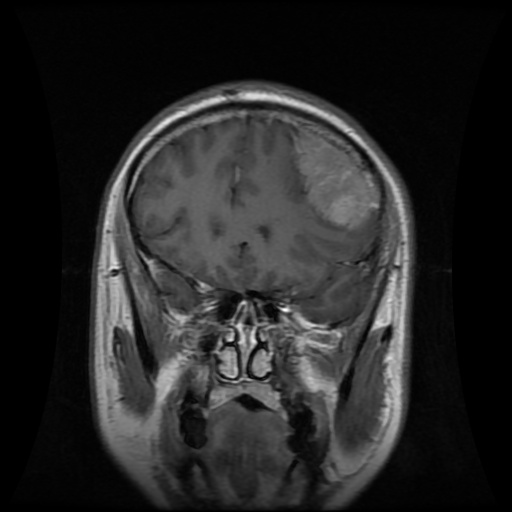meningioma: (293, 127, 373, 228)
